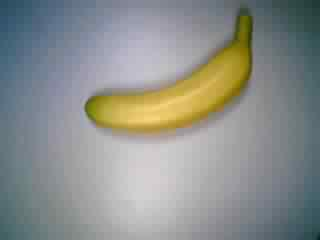banana: (83, 10, 261, 137)
